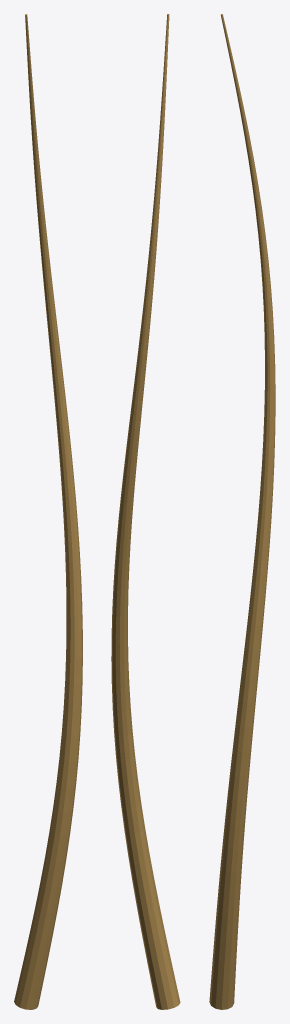
The model's file is memory-frond--bronze.glb.
3 views of the same model, side by side, from view 1: azimuth 30°, elevation 25°; view 2: azimuth 210°, elevation 25°; view 3: azimuth 330°, elevation 25° (orthographic).
Parts seen in each view (by area): view 1: memory-frond; view 2: memory-frond; view 3: memory-frond.
Part boxes in pixels (x1,y1,x2,y2): memory-frond: (14, 14, 82, 1009); memory-frond: (111, 14, 180, 1009); memory-frond: (209, 14, 275, 1009).
Bounding box in the file's own units: 0.2496 × 3.97 × 0.2291.
